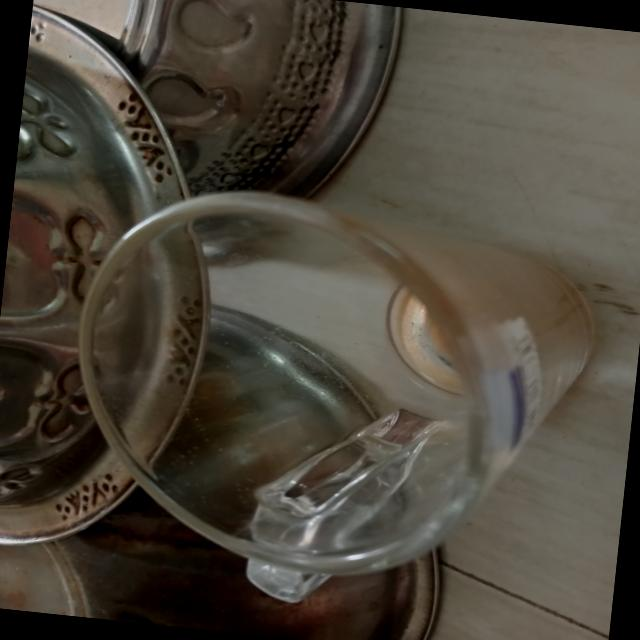glass-VX4N: (50, 172, 604, 630)
